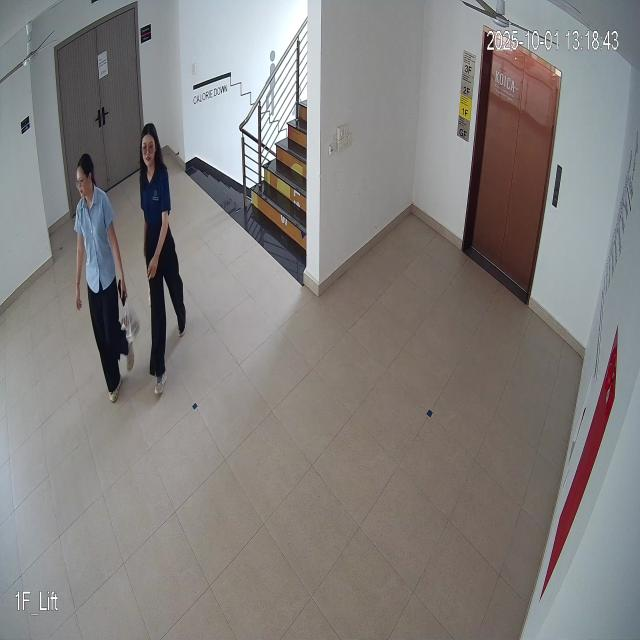face: (137, 118, 163, 174), (71, 151, 96, 202)
